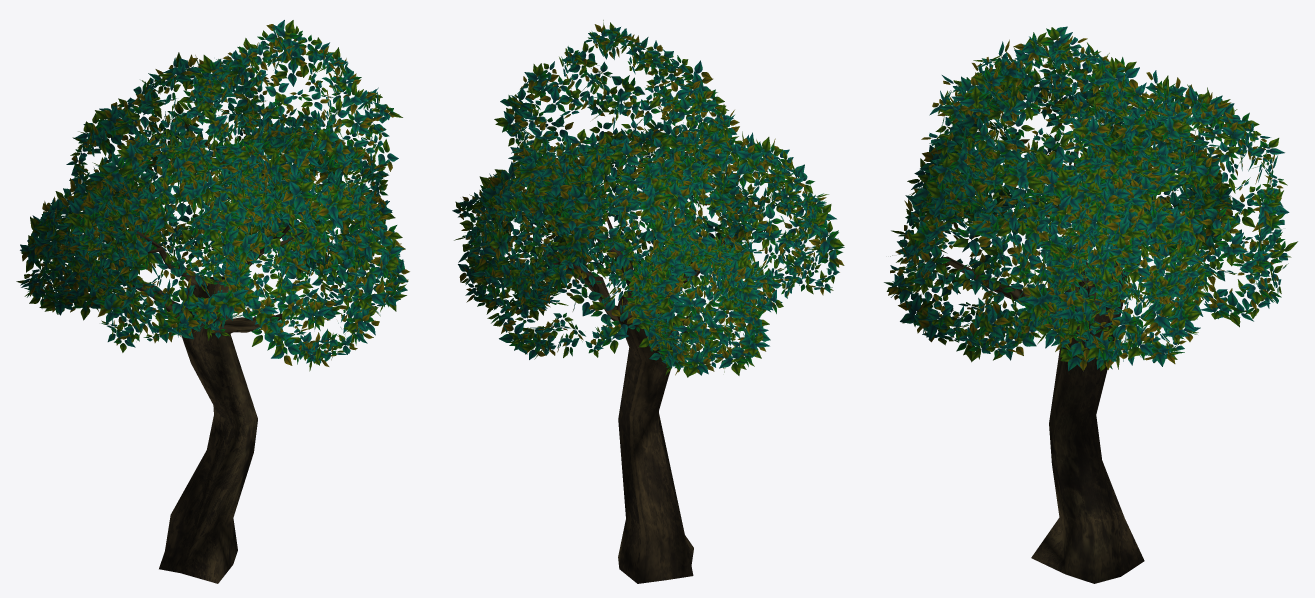
The model's file is MiddleTree_06.fbx.
3 renders of one model, left to right at view 1: azimuth 30°, elevation 25°; view 2: azimuth 150°, elevation 25°; view 3: azimuth 270°, elevation 25°, orthographic. The views are drawn at different scales.
Visible parts, largest first — view 1: leaf3, Cylinder.001; view 2: leaf3, Cylinder.001; view 3: leaf3, Cylinder.001.
Part boxes in pixels (<box>): leaf3: <box>16,20,409,371</box>; Cylinder.001: <box>101,212,303,583</box>; leaf3: <box>452,20,844,377</box>; Cylinder.001: <box>546,211,734,583</box>; leaf3: <box>884,26,1297,371</box>; Cylinder.001: <box>942,151,1151,583</box>.
Size of the model in its own units: 461 by 664 by 438.
